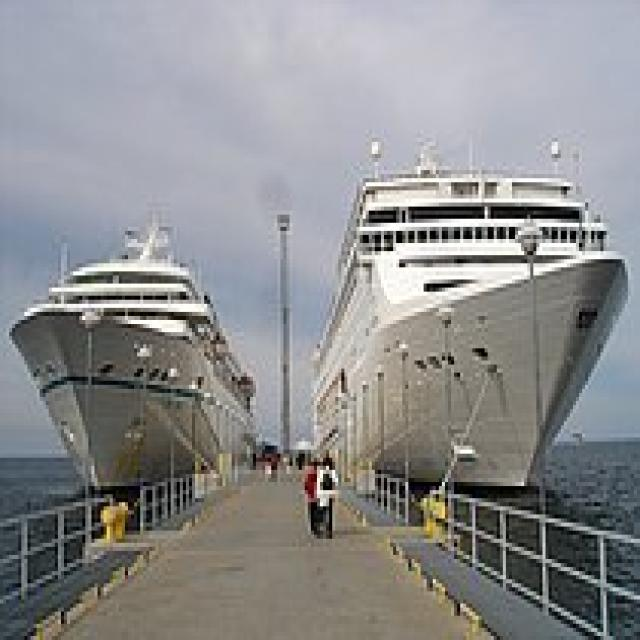Cruise: (305, 130, 631, 494), (0, 199, 259, 494)
